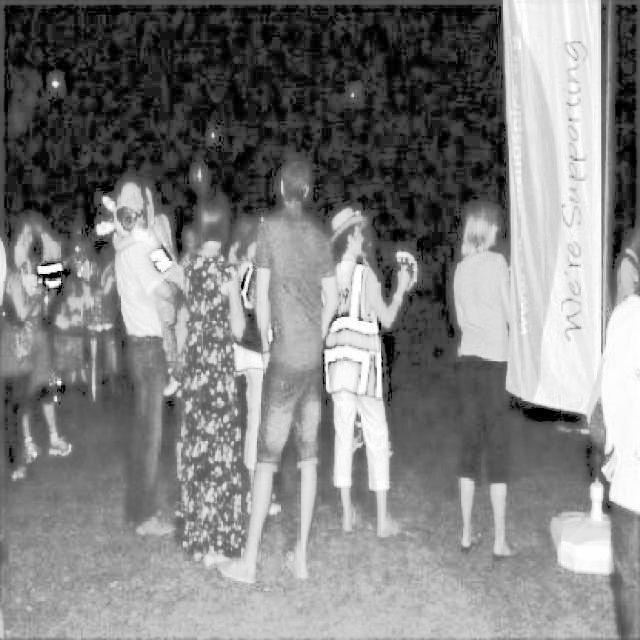Person: (220, 151, 343, 588), (323, 197, 416, 543), (179, 187, 250, 569), (111, 177, 179, 542), (450, 198, 516, 564)
